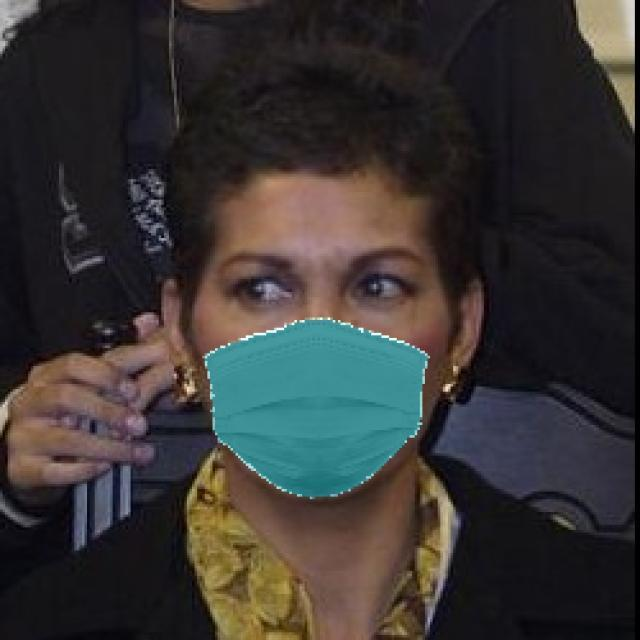surgical: (198, 178, 445, 498)
